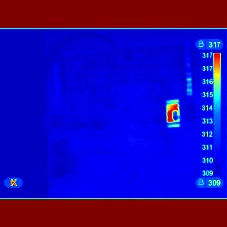Medium: (156, 99, 190, 131)
